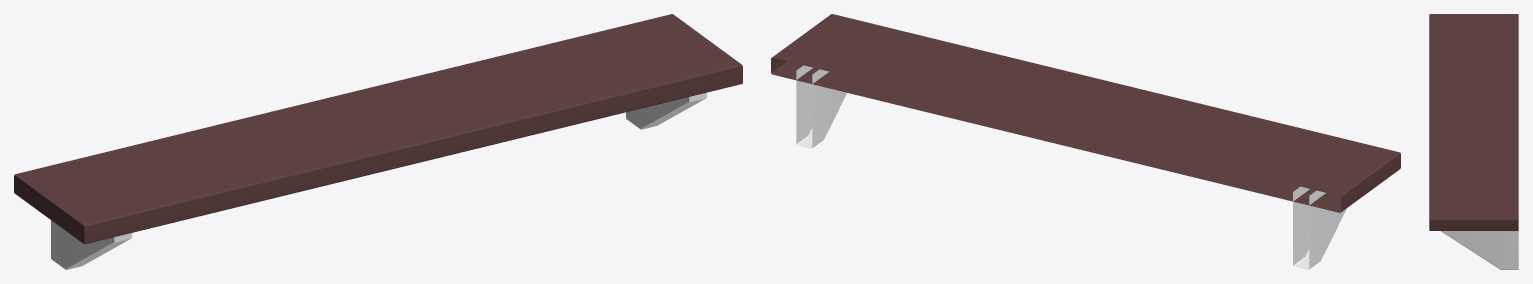
The model's file is shelve.obj.
The picture shows the model from 3 angles, left to right: view 1: azimuth 30°, elevation 25°; view 2: azimuth 150°, elevation 25°; view 3: azimuth 270°, elevation 25°; orthographic projection. The views are drawn at different scales.
Visible parts, largest first — view 1: shelve; view 2: shelve; view 3: shelve.
Boxes of the visible parts, box(x1,y1,x2,y2) form: shelve: box(14, 14, 742, 269); shelve: box(771, 14, 1400, 269); shelve: box(1429, 14, 1518, 269).
Bounding box in the file's own units: 1.54 × 0.2102 × 0.2826.
